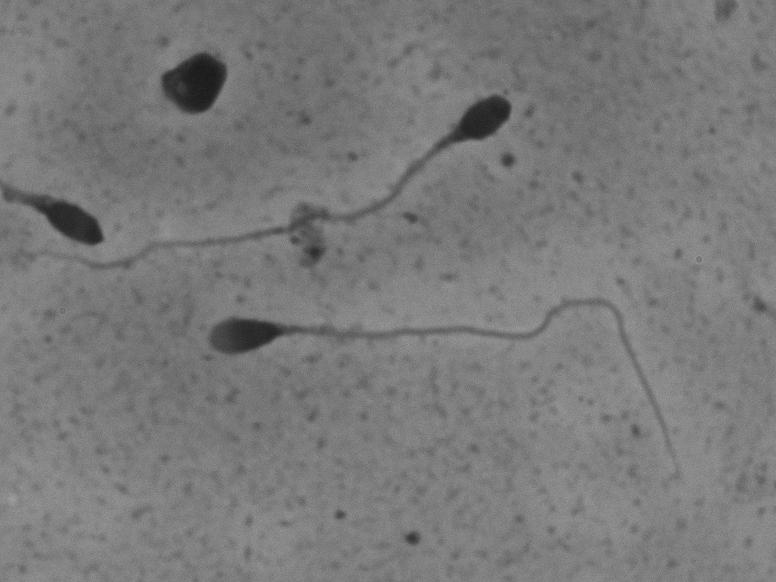Abnormal: (37, 62, 544, 286)
Normal: (184, 263, 694, 485)
